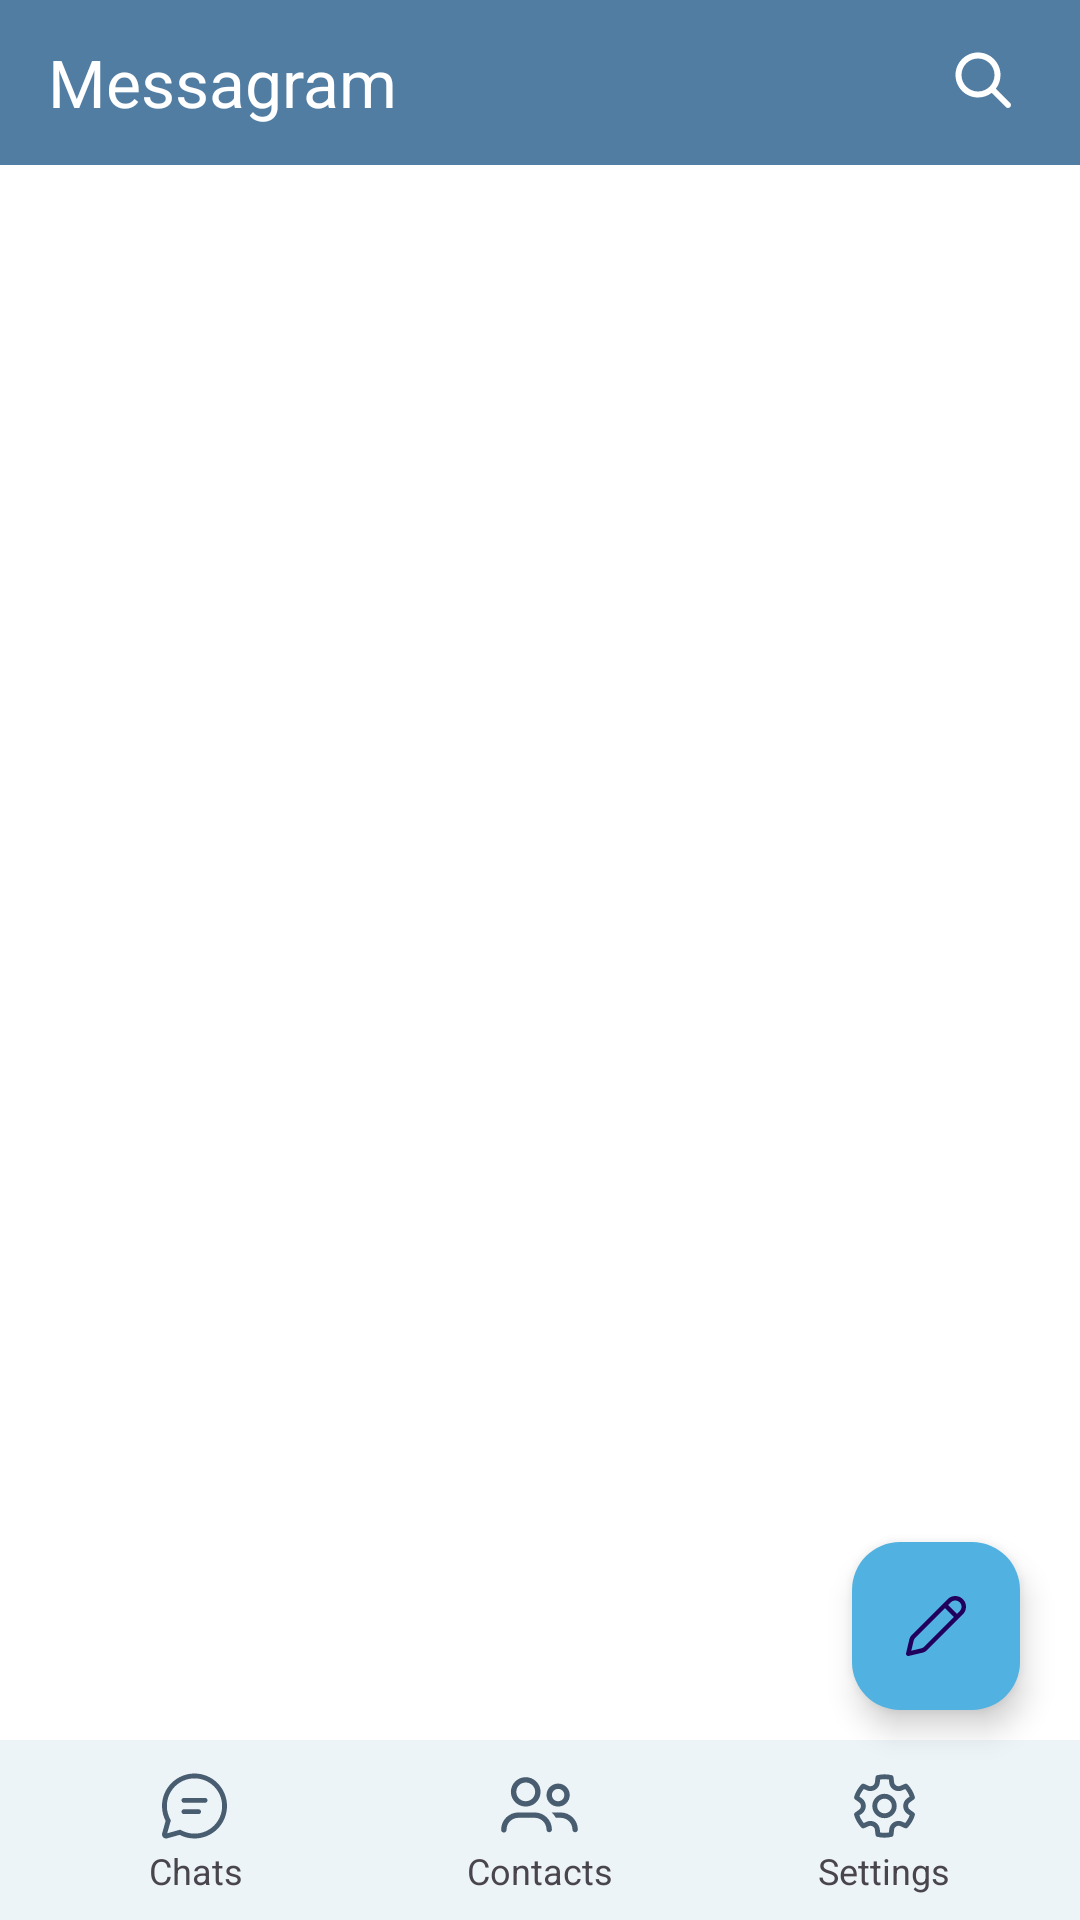

Locate icon controls on the screen. Image size 1080×1920, boxes as box=[x1, y1, x2, y2].
edit: box=[852, 1542, 1020, 1710]
search: box=[955, 52, 1011, 108]
users: box=[501, 1777, 578, 1833]
